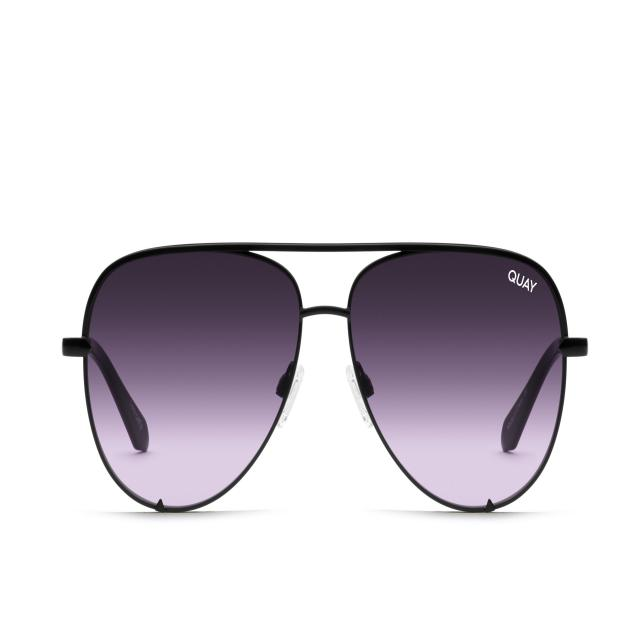suspicious-objects: (60, 198, 593, 518)
